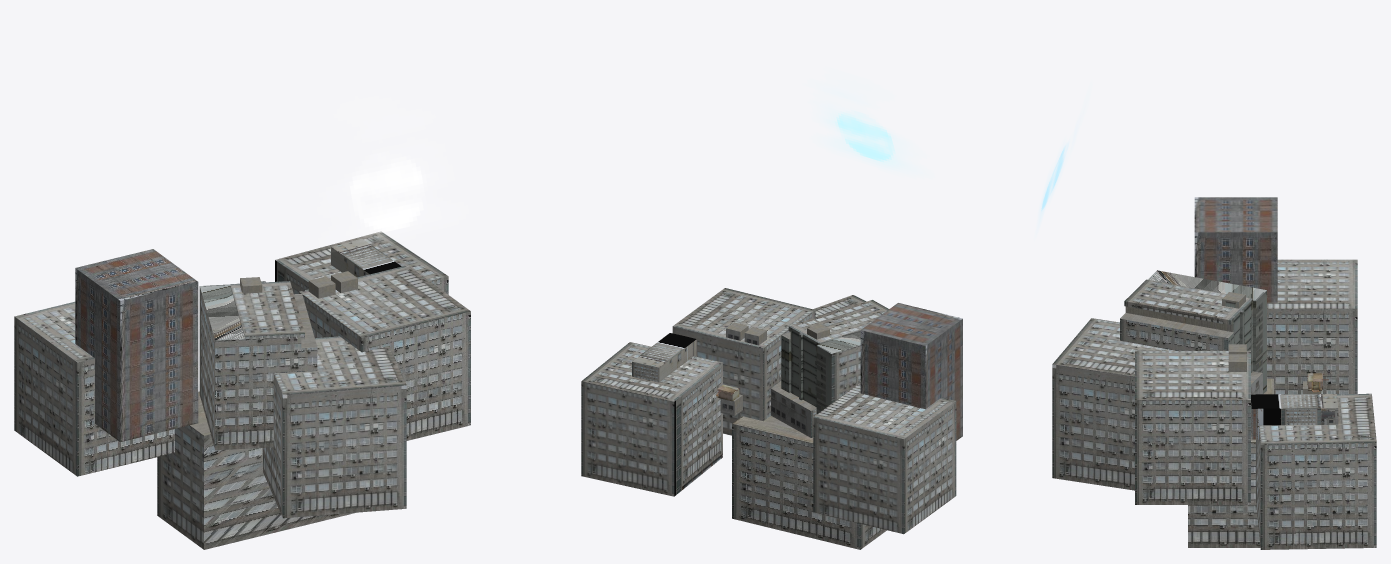
The model's file is crackhouse.glb.
3 views of the same model, side by side, from view 1: azimuth 30°, elevation 25°; view 2: azimuth 150°, elevation 25°; view 3: azimuth 270°, elevation 25° (orthographic). The views are drawn at different scales.
Visible parts, largest first — view 1: Cube, Cube.003, Cube.002, Cube.001, Cube.004, Cube.007, MOON, Cube.008, Cube.011; view 2: Cube.004, Cube.008, Cube.007, Cube.003, Cube.002, Cube.001, MOON, Cube.011, Cube.012, Cube; view 3: Cube.002, Cube.008, Cube, Cube.004, Cube.001, Cube.003, Cube.007, Cube.011, MOON.
Part boxes in pixels (x1,y1,x2,y2): Cube: (263, 336, 406, 518); Cube.003: (75, 249, 198, 441); Cube.002: (299, 265, 470, 440); Cube.001: (199, 281, 317, 450); Cube.004: (14, 301, 174, 476); Cube.007: (157, 391, 355, 549); MOON: (342, 151, 441, 243); Cube.008: (275, 232, 448, 294); Cube.011: (331, 238, 401, 277); Cube.004: (813, 382, 956, 534); Cube.008: (581, 342, 722, 496); Cube.007: (732, 416, 886, 549); Cube.003: (860, 303, 962, 440); Cube.002: (672, 288, 815, 435); Cube.001: (781, 300, 888, 413); MOON: (826, 111, 907, 169); Cube.011: (632, 333, 696, 382); Cube.012: (771, 381, 816, 437); Cube: (813, 295, 866, 317); Cube.002: (1135, 350, 1250, 504); Cube.008: (1256, 393, 1376, 549); Cube: (1052, 318, 1174, 490); Cube.004: (1267, 259, 1357, 394); Cube.001: (1120, 270, 1266, 393); Cube.003: (1194, 197, 1277, 302); Cube.007: (1188, 378, 1273, 547); Cube.011: (1251, 394, 1338, 439); MOON: (1039, 142, 1068, 222).
Size of the model in its own units: 70 by 89.73 by 64.89.
Materials: 8 (8 with a texture image).
